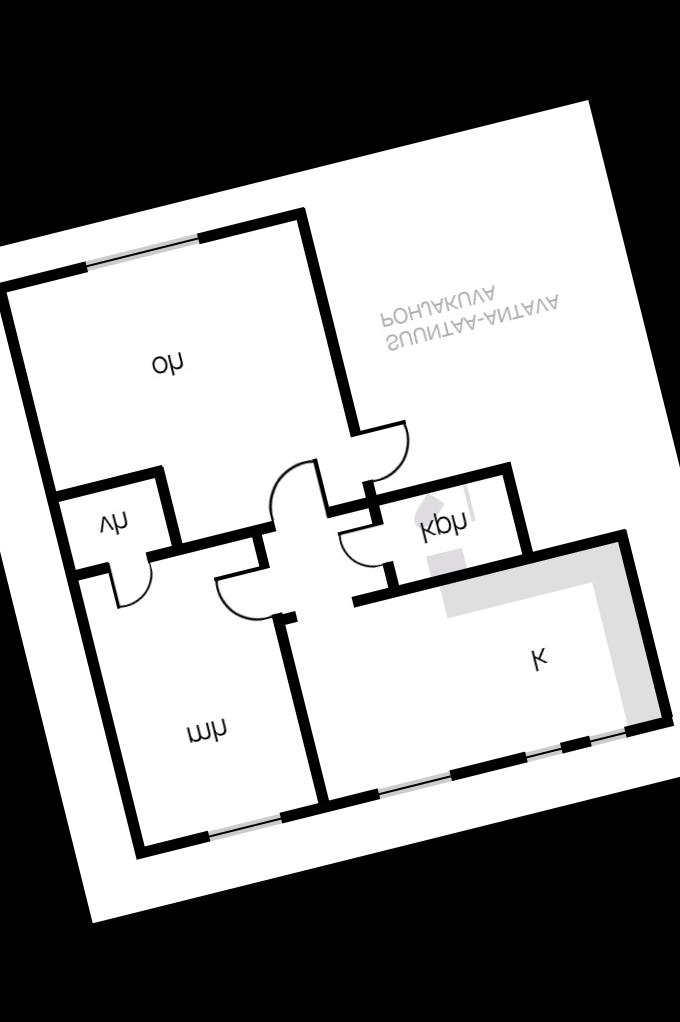door: (254, 449, 331, 533), (347, 414, 421, 488), (209, 560, 276, 630), (100, 546, 164, 612), (333, 515, 396, 574)
window: (68, 225, 210, 277), (195, 802, 294, 850), (367, 761, 464, 806), (577, 723, 641, 755), (515, 735, 574, 769)
